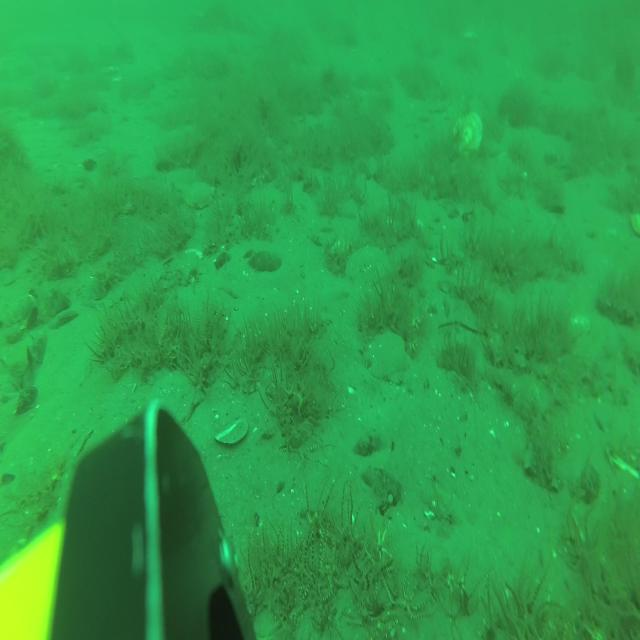scallop: (146, 371, 203, 431), (363, 329, 411, 381), (452, 112, 482, 155), (183, 176, 214, 209), (628, 208, 640, 236), (463, 29, 480, 41)
